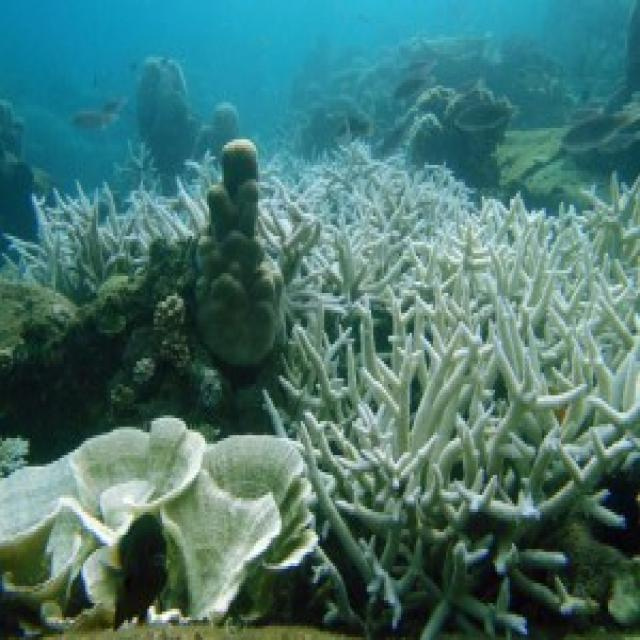Bleached: (280, 197, 639, 638), (3, 419, 206, 632), (12, 160, 221, 303), (396, 371, 639, 487), (163, 436, 315, 618), (261, 143, 475, 271), (590, 177, 640, 300), (571, 192, 611, 229)
Healthy: (199, 143, 280, 365)
